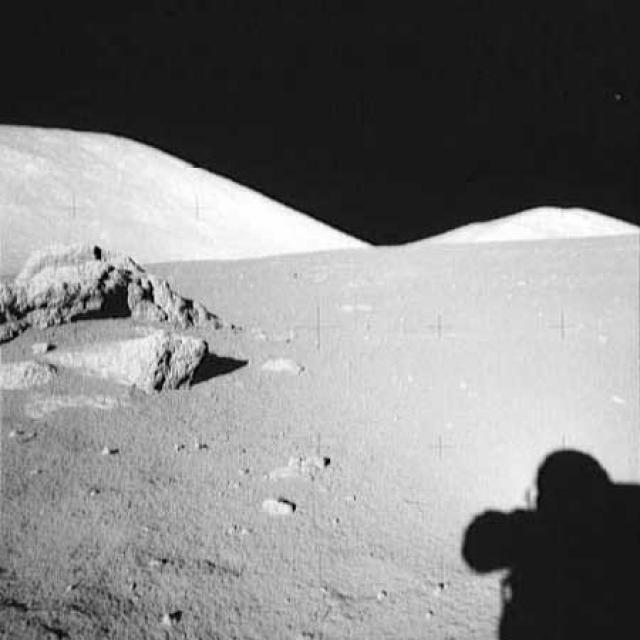rock: (0, 229, 218, 333), (36, 332, 218, 394), (251, 351, 308, 380), (259, 492, 304, 524)
